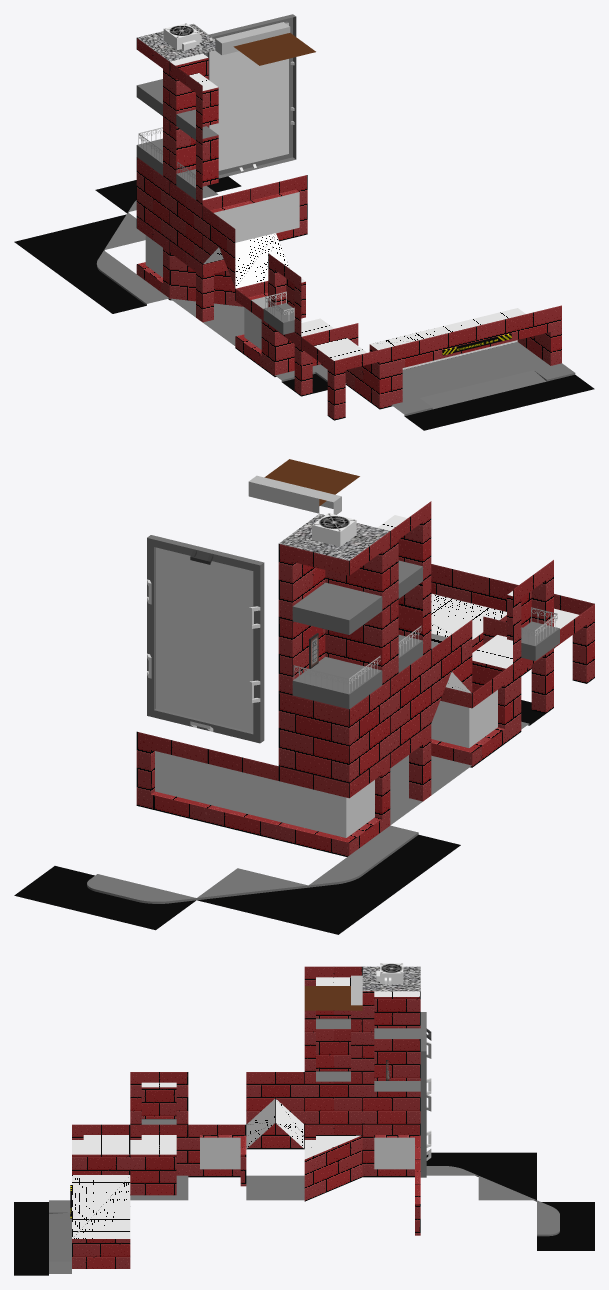
The model's file is apartment modules.fbx.
3 renders of one model, top to bottom at view 1: azimuth 30°, elevation 25°; view 2: azimuth 150°, elevation 25°; view 3: azimuth 270°, elevation 25°, orthographic. The views are drawn at different scales.
Parts seen in each view (by area): view 1: Garage, Billboard, Supported Overhang End, Diagonal Supported Wall, Wall Overhang, Supported Overhang Corner, Window End, Apartment Side Top, Apartment Side, Apartment Overhang Balcony, Window Corner, Wall (+19 smaller); view 2: Billboard, Apartment Corner Top, Wall Corner, Window Continuing Corner, Apartment Corner, Window Corner, Window End, Window Extender, Garage, Supported Overhang Corner, Apartment Overhang Balcony, Apartment Side Top (+17 smaller); view 3: Garage, Wall Overhang, Supported Overhang Corner, Diagonal Supported Wall, Window Corner, Apartment Overhang Balcony, Apartment Side, Apartment Corner, Window Continuing Corner, Supported Overhang End, Wall, Apartment Corner Top (+16 smaller).
Boxes of the visible parts, x1,y1,x2,y2 form: Garage: [369, 305, 561, 406]; Billboard: [203, 14, 296, 178]; Supported Overhang End: [301, 337, 390, 420]; Diagonal Supported Wall: [169, 241, 244, 322]; Wall Overhang: [202, 205, 289, 288]; Supported Overhang Corner: [268, 318, 358, 396]; Window End: [250, 175, 307, 241]; Apartment Side Top: [169, 62, 218, 144]; Apartment Side: [169, 121, 218, 204]; Apartment Overhang Balcony: [263, 253, 305, 336]; Window Corner: [235, 281, 268, 371]; Wall: [169, 181, 202, 264]; Billboard: [147, 535, 264, 743]; Apartment Corner Top: [278, 531, 390, 634]; Wall Corner: [278, 680, 390, 783]; Window Continuing Corner: [278, 754, 390, 856]; Apartment Corner: [278, 605, 390, 709]; Window Corner: [431, 664, 512, 767]; Window End: [136, 731, 211, 822]; Window Extender: [207, 749, 282, 840]; Garage: [431, 564, 518, 652]; Supported Overhang Corner: [472, 616, 553, 737]; Apartment Overhang Balcony: [507, 560, 559, 663]; Apartment Side Top: [377, 501, 431, 604]; Garage: [70, 1175, 130, 1268]; Wall Overhang: [246, 1072, 304, 1149]; Supported Overhang Corner: [130, 1124, 188, 1195]; Diagonal Supported Wall: [304, 1124, 362, 1201]; Window Corner: [188, 1124, 246, 1186]; Apartment Overhang Balcony: [130, 1072, 188, 1124]; Apartment Side: [304, 1019, 362, 1081]; Apartment Corner: [362, 1019, 420, 1091]; Window Continuing Corner: [362, 1124, 420, 1177]; Supported Overhang End: [72, 1124, 130, 1174]; Wall: [304, 1072, 362, 1124]; Apartment Corner Top: [362, 991, 420, 1038].
Size of the model in its own units: 2500 by 2100 by 5000.
